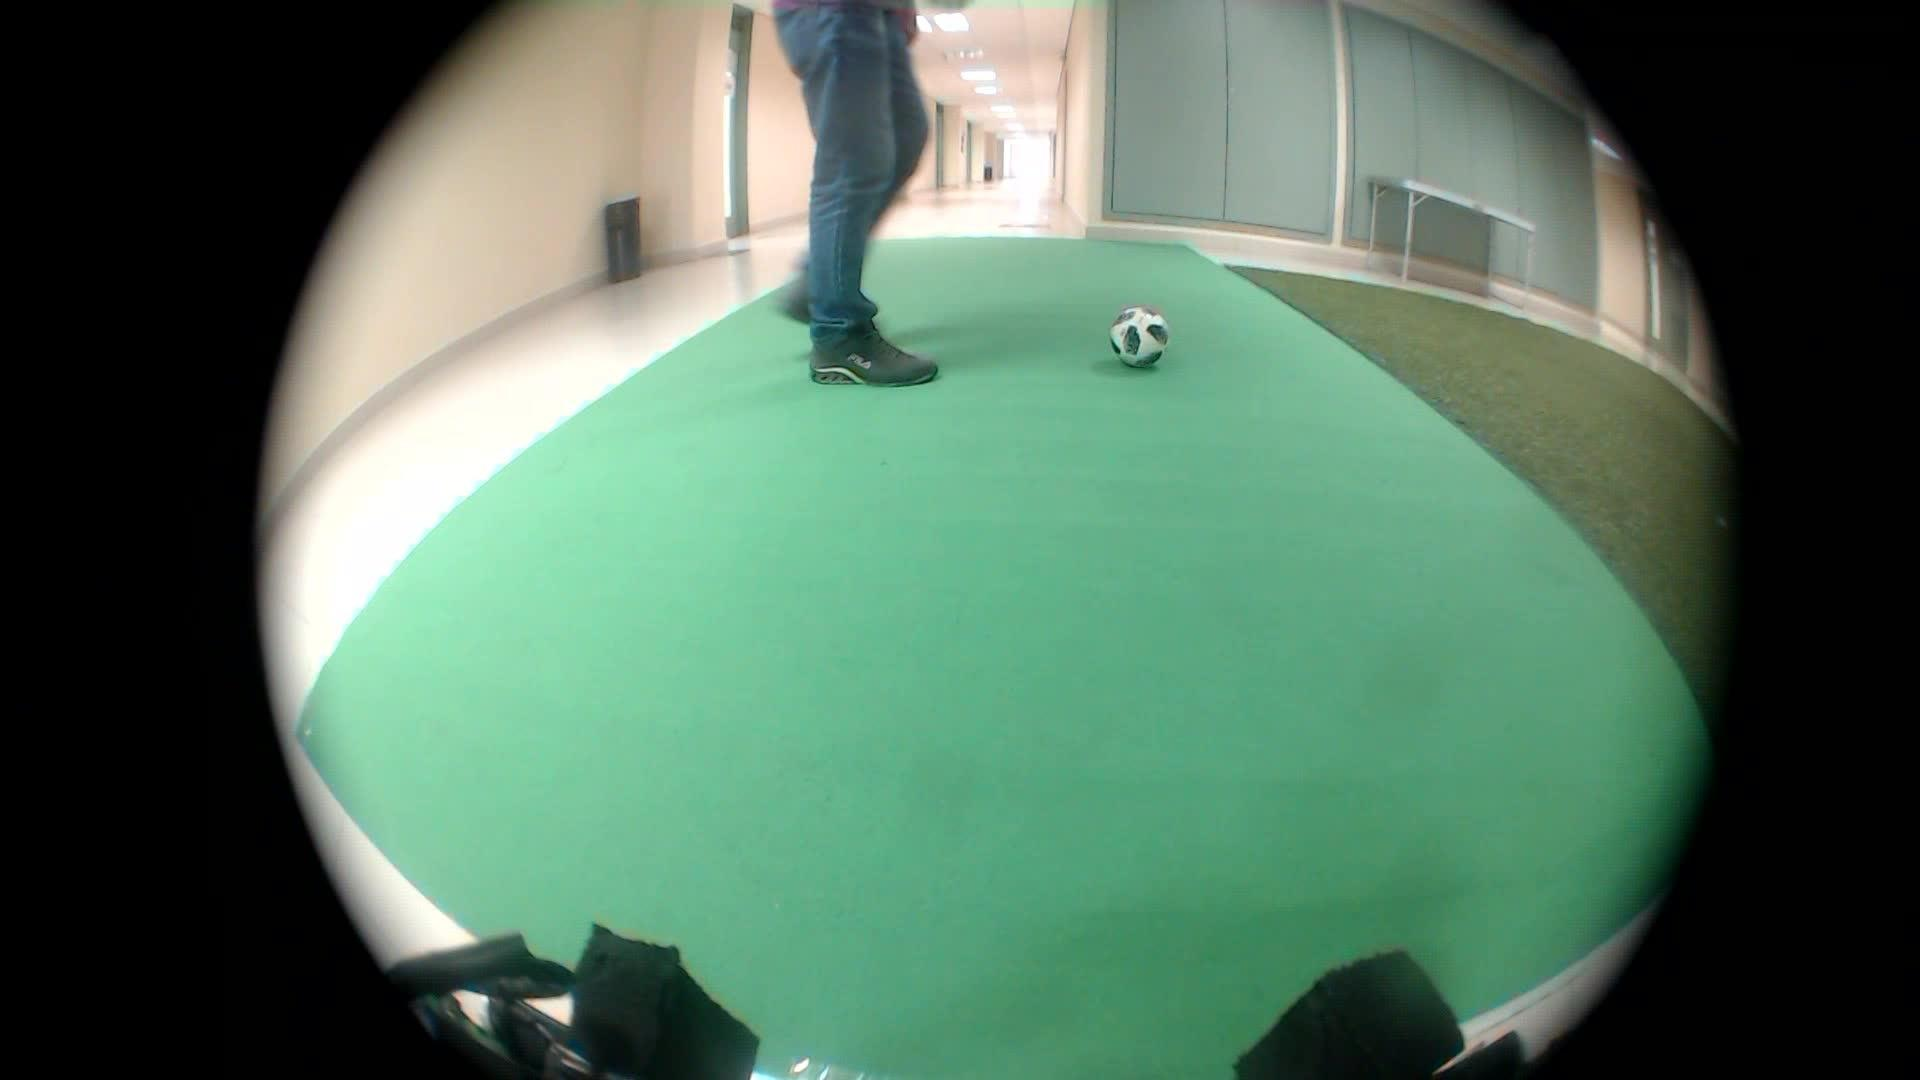ball: (1101, 302, 1175, 375)
